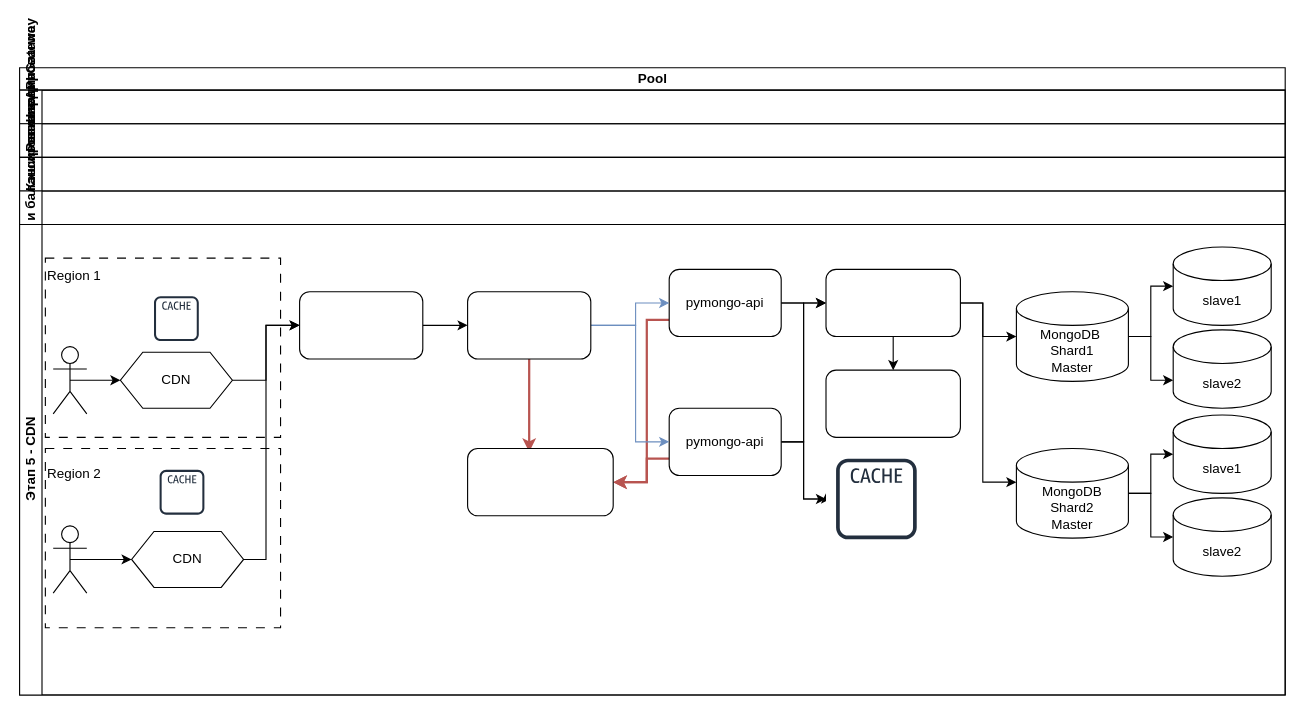
The diagram is 1305 pixels wide and 715 high, and some of its shapes have lost their labels. Each missing label, with the centre of its shape:
API Gateway: (528,325)
mongos_configSrv: (892,403)
mongos_router: (892,302)
redis cache: (876,498)
Service Registry (consul): (539,481)
Web site / Mobile app: (360,325)
